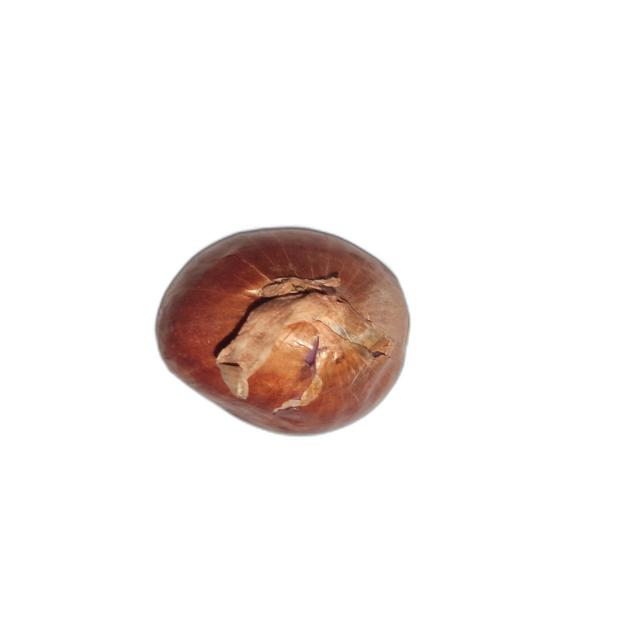onion: (154, 225, 411, 438)
